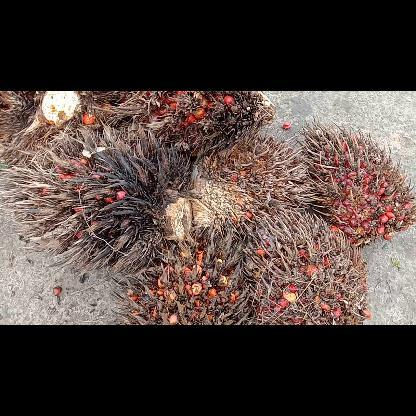Terlalu masak: (0, 119, 215, 277), (298, 118, 416, 244), (242, 210, 370, 324), (113, 224, 249, 324), (192, 130, 316, 228), (115, 91, 275, 155), (0, 91, 134, 163)
